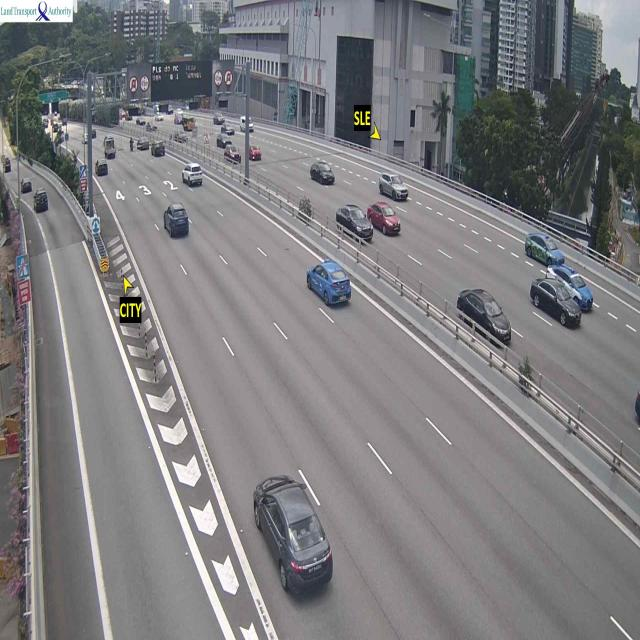vehicles: (247, 467, 335, 606), (531, 276, 587, 333), (460, 290, 510, 348), (307, 253, 350, 314), (334, 205, 372, 248), (161, 204, 195, 240), (379, 170, 410, 205), (309, 160, 341, 191), (179, 160, 207, 190), (92, 159, 119, 186), (223, 142, 244, 166), (103, 129, 119, 159), (149, 139, 169, 160), (33, 189, 50, 213)
